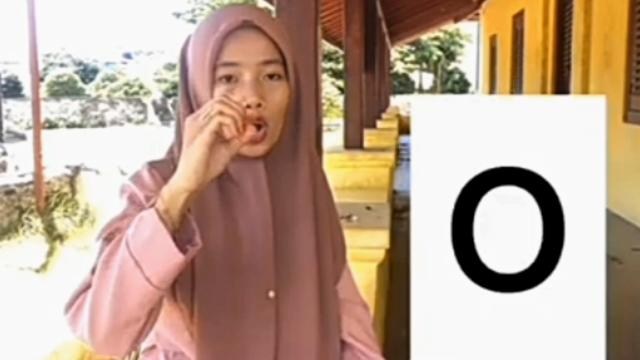O: (184, 90, 252, 194)
